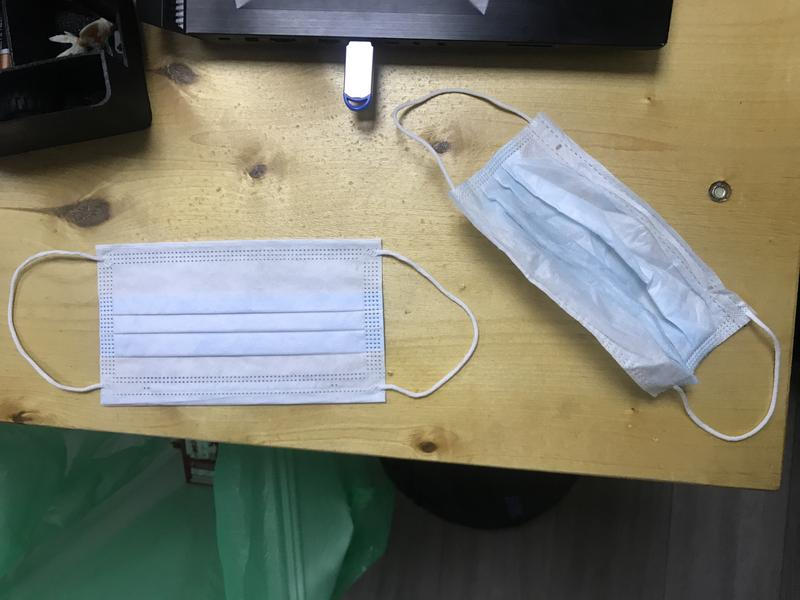medical_mask: (393, 89, 780, 443), (8, 239, 479, 408)
